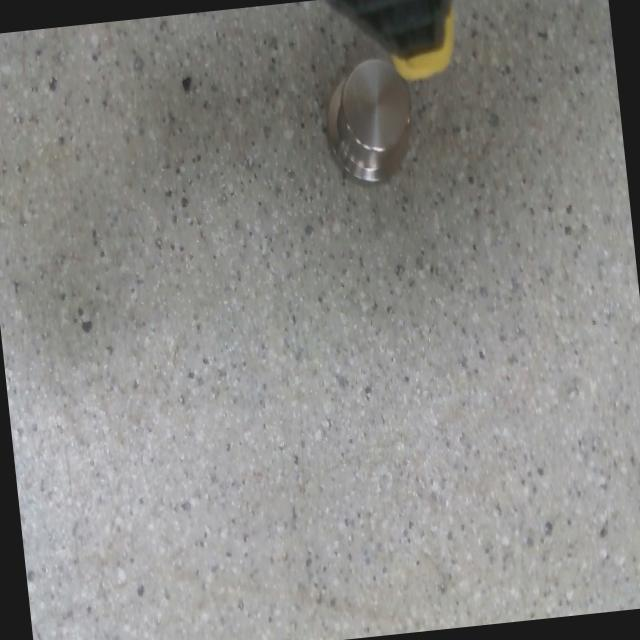sensor: (316, 52, 419, 192)
